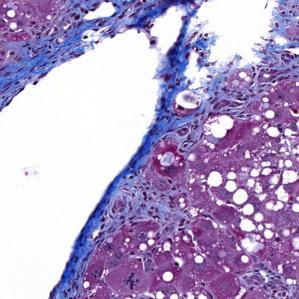fibrosis: (163, 49, 288, 125), (6, 11, 120, 76)
